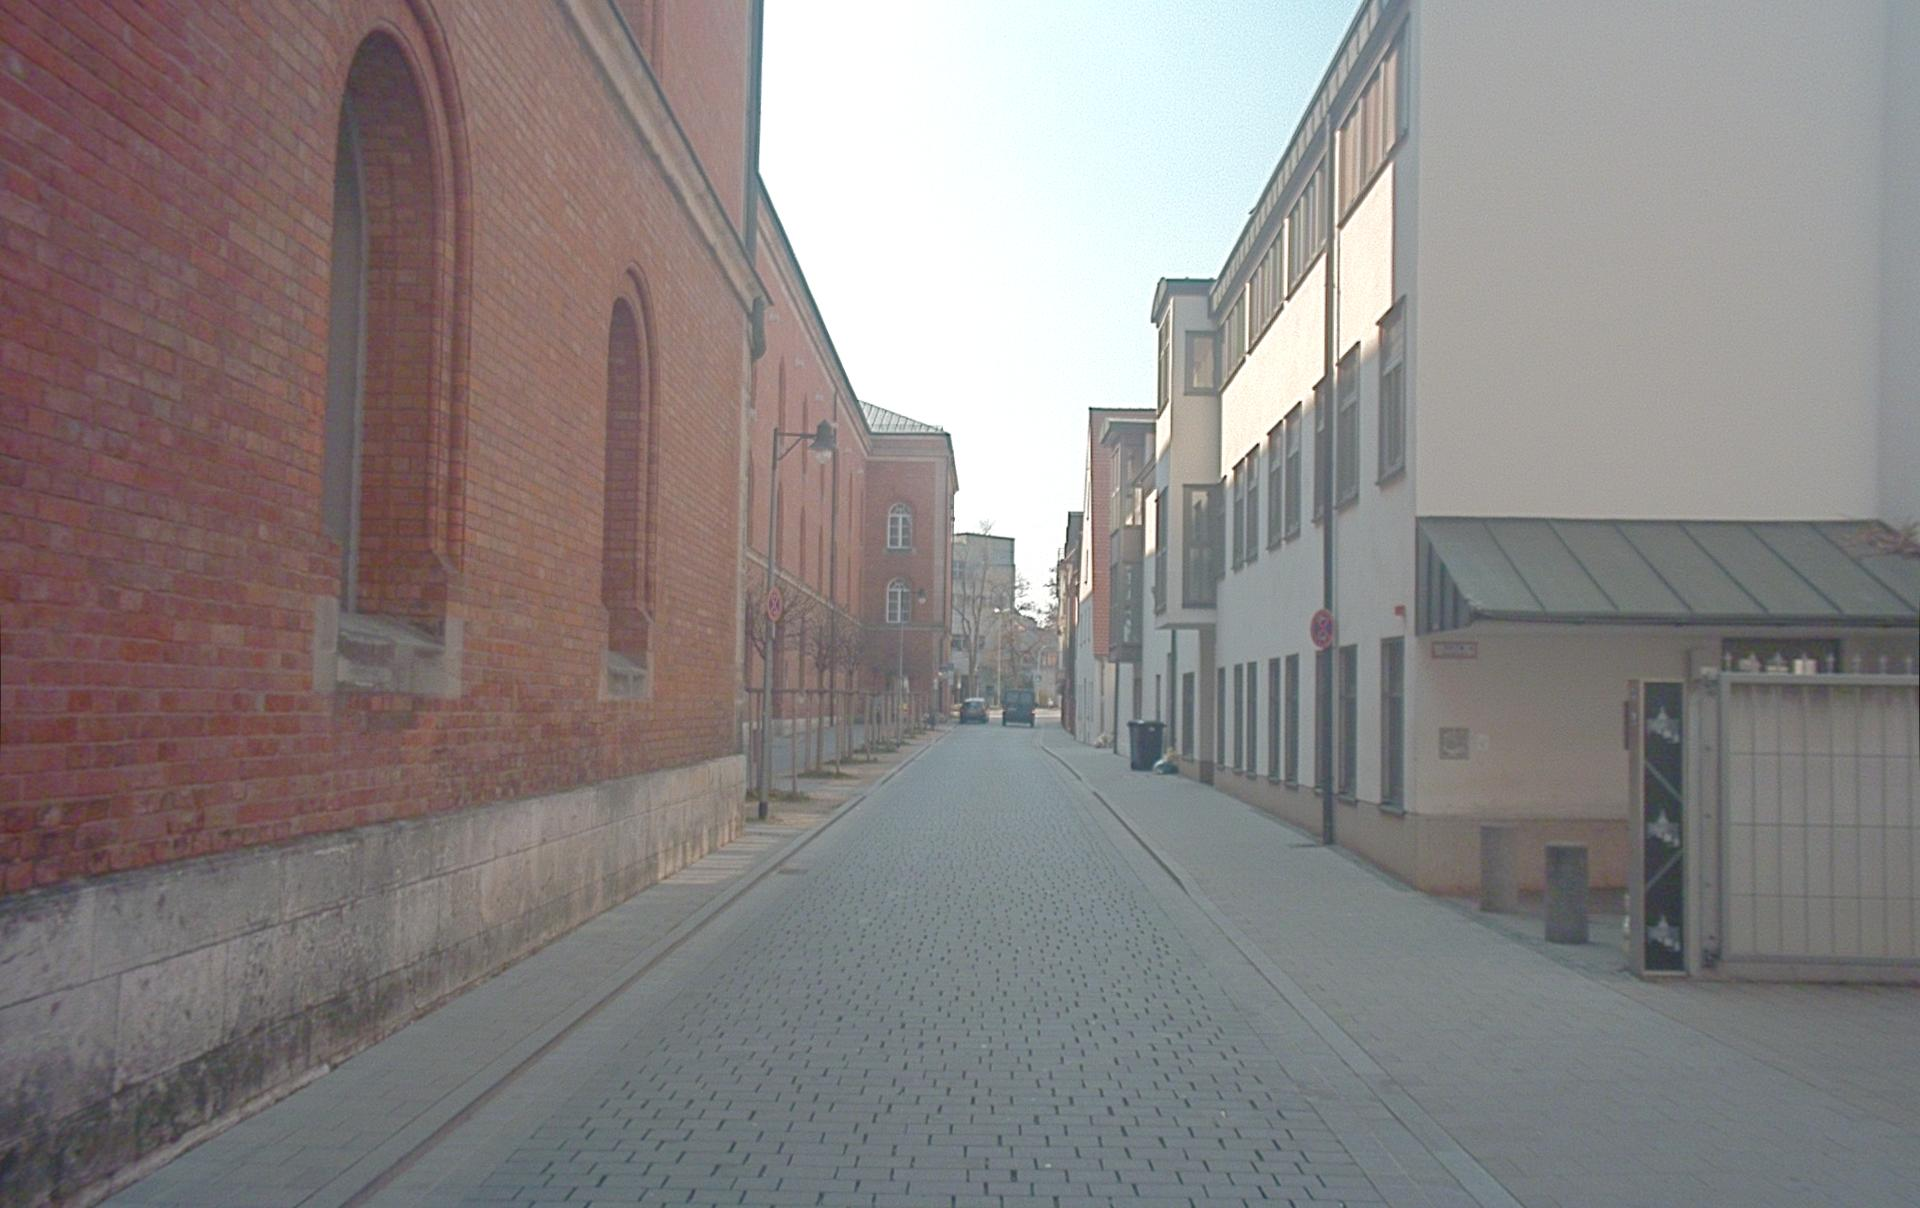car: (959, 697, 989, 724)
